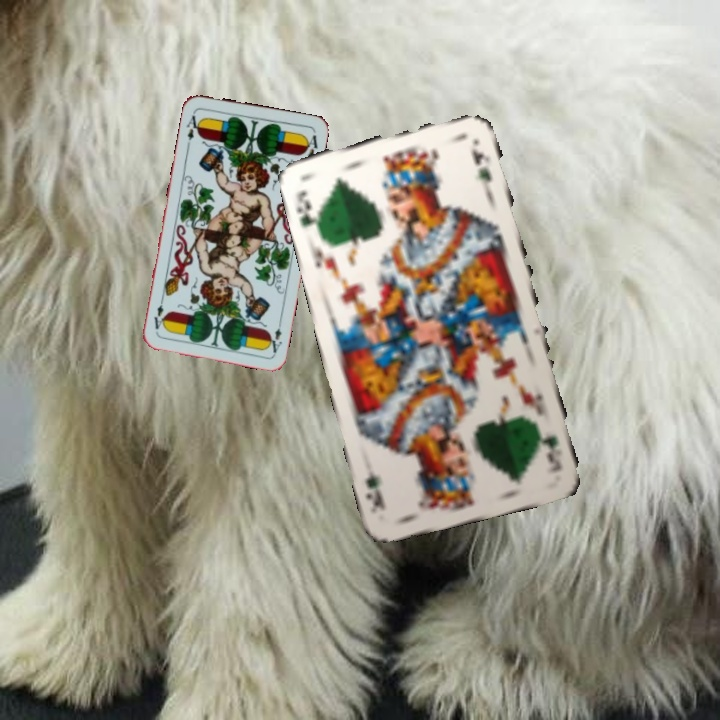EA: (182, 108, 204, 148), (264, 316, 285, 355)
GK: (292, 186, 323, 235), (539, 431, 566, 475)
